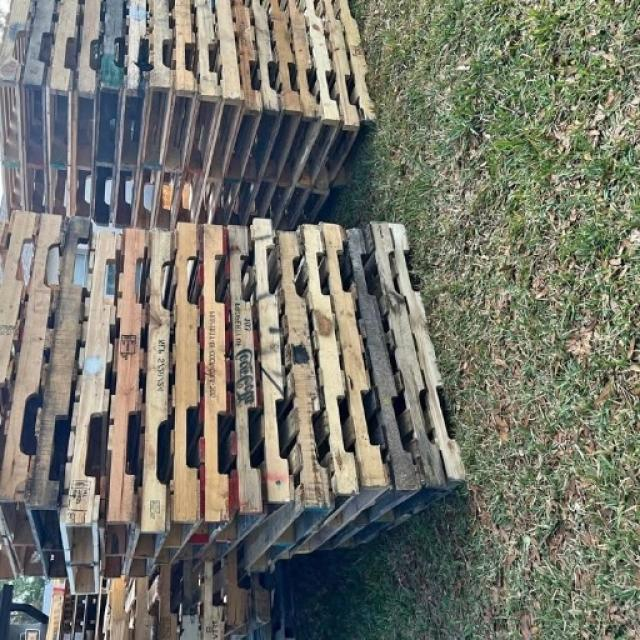non-igps: (19, 208, 98, 587), (52, 206, 122, 602), (336, 215, 431, 501), (0, 207, 71, 588), (360, 216, 454, 498), (382, 216, 473, 494), (314, 212, 395, 498), (290, 215, 366, 503), (272, 224, 341, 515), (266, 0, 349, 236), (284, 0, 364, 240), (97, 220, 155, 532), (214, 220, 274, 518), (255, 0, 329, 238), (218, 0, 290, 233), (244, 212, 300, 509), (238, 0, 310, 231), (131, 221, 181, 538), (203, 0, 271, 232), (161, 212, 210, 528), (194, 217, 242, 535), (166, 0, 229, 236), (148, 0, 207, 236), (188, 0, 248, 230), (126, 0, 182, 235), (104, 0, 156, 236), (85, 0, 135, 234), (62, 0, 112, 229), (0, 203, 47, 441), (37, 0, 87, 223), (16, 0, 64, 221), (0, 0, 39, 227), (332, 0, 382, 137), (220, 541, 254, 640), (143, 559, 183, 640), (196, 553, 232, 640), (120, 572, 162, 640), (100, 571, 140, 640), (174, 555, 206, 640), (247, 566, 277, 635), (42, 573, 69, 640), (55, 590, 79, 640), (82, 589, 100, 640), (73, 590, 89, 640), (96, 591, 112, 640)
